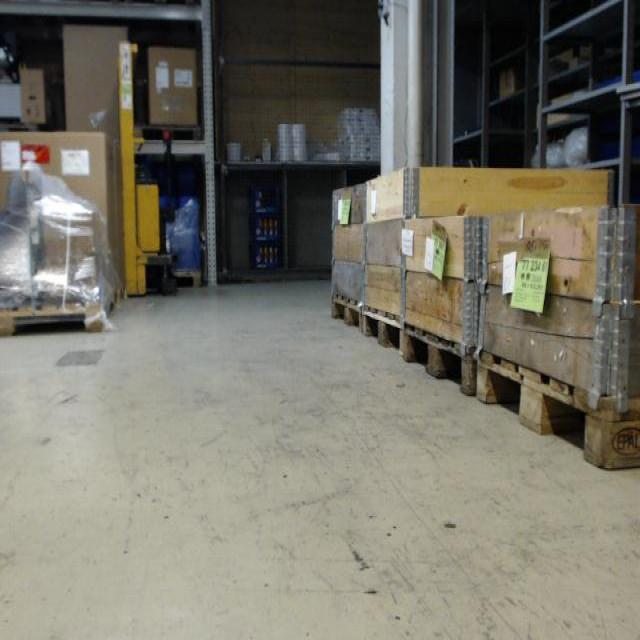pallet: (476, 349, 640, 471), (405, 318, 476, 399), (0, 305, 104, 336), (364, 302, 405, 365), (133, 122, 205, 144), (330, 293, 363, 336), (173, 270, 201, 290), (0, 123, 36, 134)
pallet_truck: (119, 38, 175, 301)
